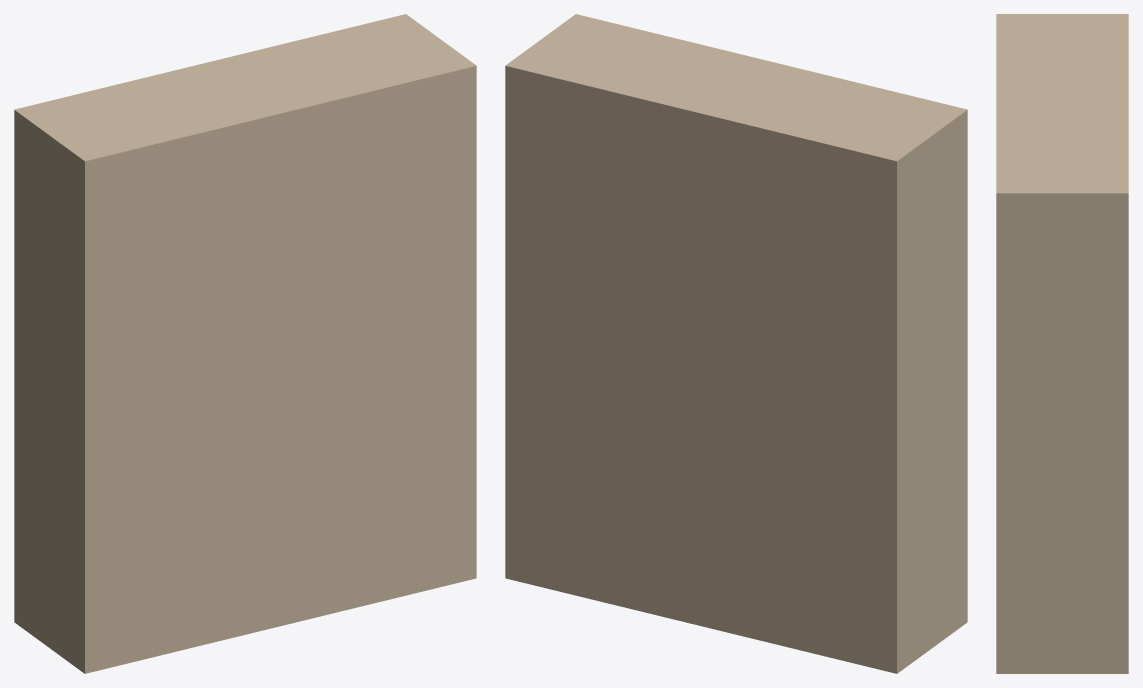
Rendered from Bookshelf.glb.
3 renders of one model, left to right at view 1: azimuth 30°, elevation 25°; view 2: azimuth 150°, elevation 25°; view 3: azimuth 270°, elevation 25°, orthographic. The views are drawn at different scales.
Parts seen in each view (by area): view 1: world; view 2: world; view 3: world.
Boxes of the visible parts, bbox=[...] form: world: bbox=[14, 14, 476, 673]; world: bbox=[505, 14, 967, 673]; world: bbox=[996, 14, 1128, 673].
Bounding box in the file's own units: 0.8 × 1 × 0.25.
